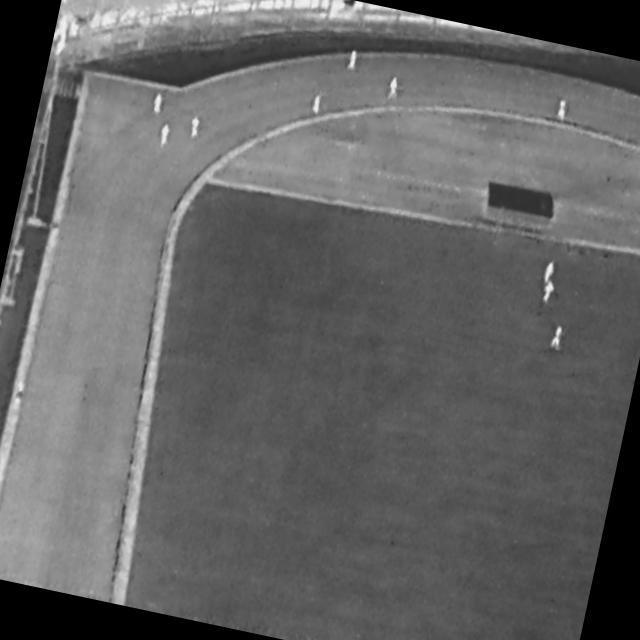person: (388, 76, 402, 102), (189, 117, 203, 142), (543, 261, 557, 286), (551, 325, 564, 351), (542, 281, 556, 305), (159, 124, 172, 149), (311, 93, 324, 117), (14, 384, 27, 408), (152, 94, 165, 116), (347, 51, 360, 73), (556, 100, 568, 121)
